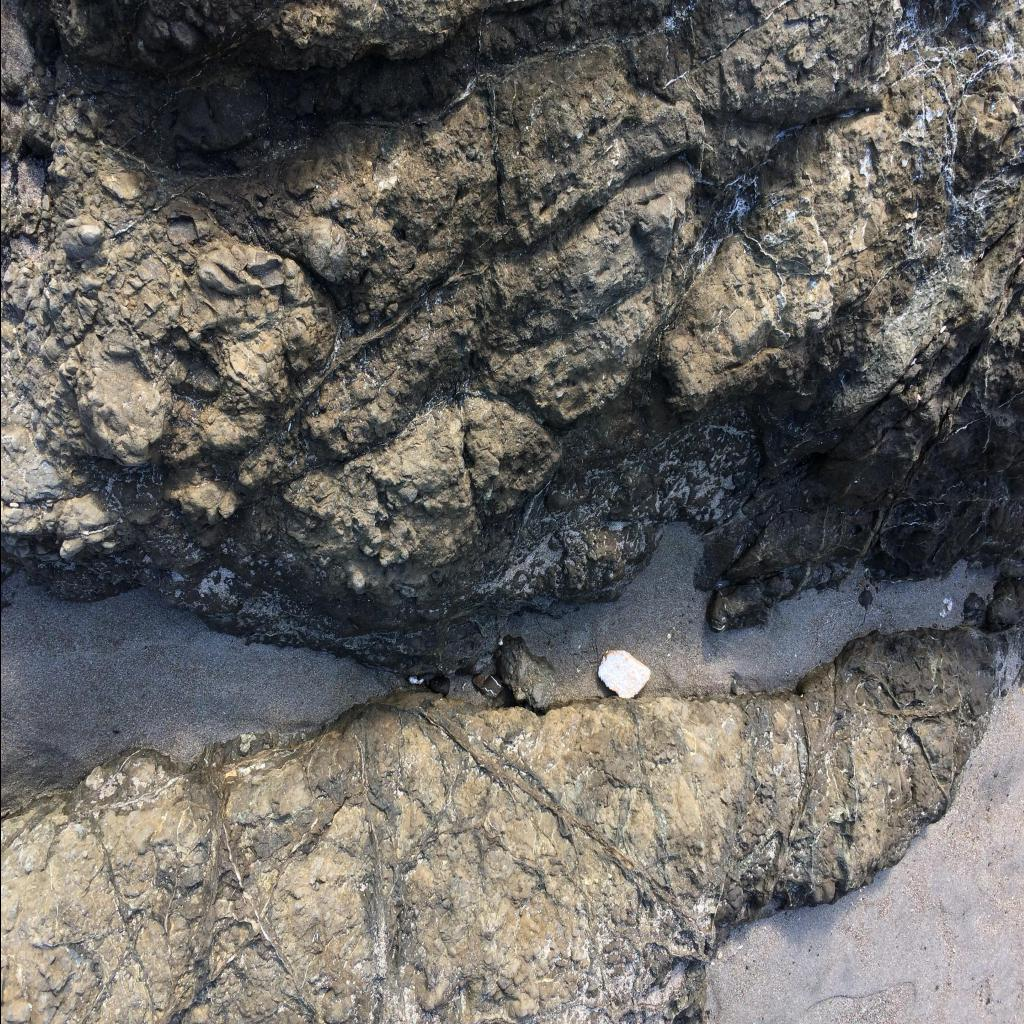Styrofoam piece: (598, 650, 650, 698)
